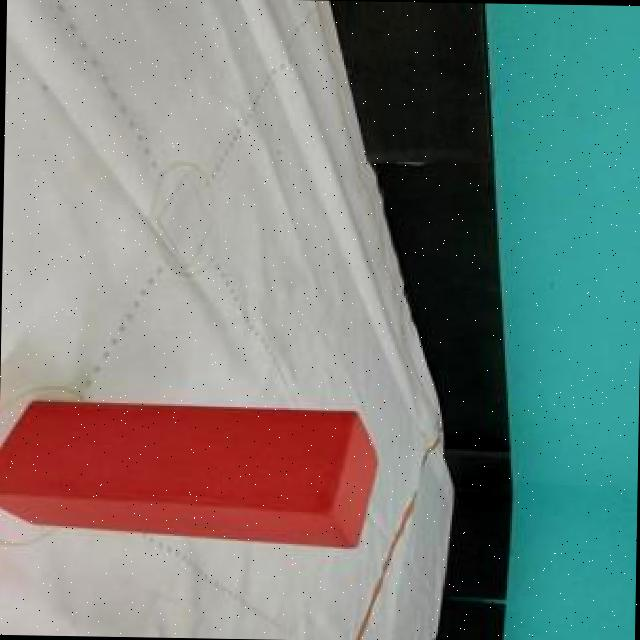redbox: (0, 402, 378, 549)
